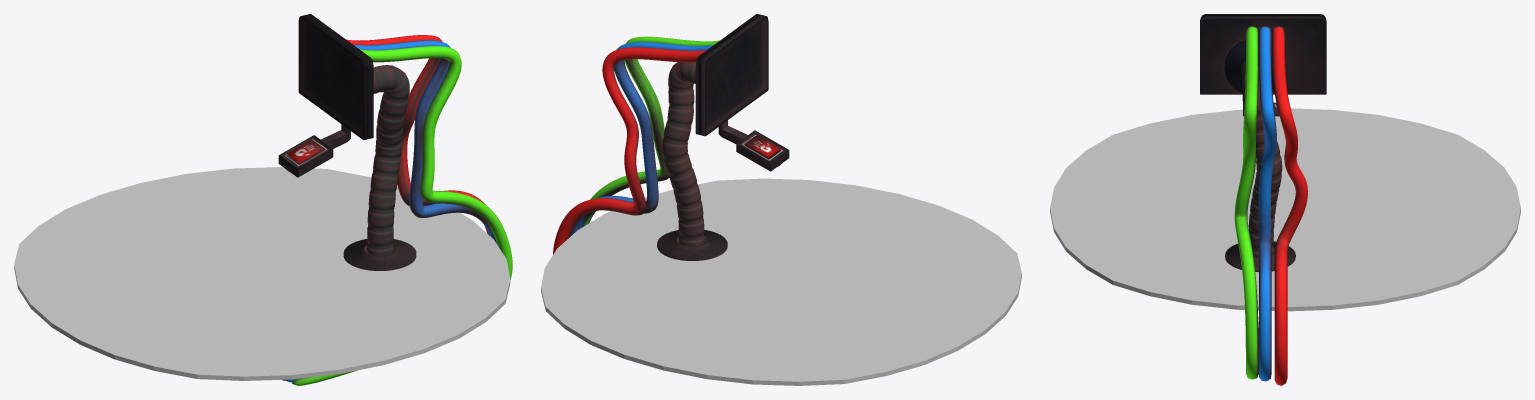
The model's file is komp.fbx.
The picture shows the model from 3 angles, left to right: view 1: azimuth 30°, elevation 25°; view 2: azimuth 150°, elevation 25°; view 3: azimuth 270°, elevation 25°; orthographic projection. The views are drawn at different scales.
Parts seen in each view (by area): view 1: Plane, Cube, Circle, NurbsPath.002, NurbsPath.001, NurbsPath, Circle.002, Circle.003, Cube.002; view 2: Plane, Cube, Circle, NurbsPath, NurbsPath.001, NurbsPath.002, Circle.002, Circle.003, Cube.002; view 3: Plane, Cube, NurbsPath, NurbsPath.002, NurbsPath.001, Circle, Circle.001, Circle.002.
Boxes of the visible parts, <box> form: Plane: <box>14,167,510,380</box>; Cube: <box>298,14,373,140</box>; Circle: <box>367,65,409,255</box>; NurbsPath.002: <box>292,46,512,385</box>; NurbsPath.001: <box>285,40,497,382</box>; NurbsPath: <box>282,35,489,380</box>; Circle.002: <box>343,239,416,270</box>; Circle.003: <box>278,124,350,177</box>; Cube.002: <box>287,140,323,164</box>; Plane: <box>541,178,1021,385</box>; Cube: <box>695,14,768,136</box>; Circle: <box>662,62,704,246</box>; NurbsPath: <box>553,47,706,254</box>; NurbsPath.001: <box>568,42,713,238</box>; NurbsPath.002: <box>582,36,719,227</box>; Circle.002: <box>657,230,727,260</box>; Circle.003: <box>718,120,789,171</box>; Cube.002: <box>745,135,780,159</box>; Plane: <box>1050,108,1520,311</box>; Cube: <box>1200,14,1326,94</box>; NurbsPath: <box>1272,26,1307,385</box>; NurbsPath.002: <box>1234,26,1258,379</box>; NurbsPath.001: <box>1258,26,1276,381</box>; Circle: <box>1242,61,1282,257</box>; Circle.001: <box>1224,40,1273,93</box>; Circle.002: <box>1225,241,1295,272</box>.
Size of the model in its own units: 1672 by 1214 by 1570.
